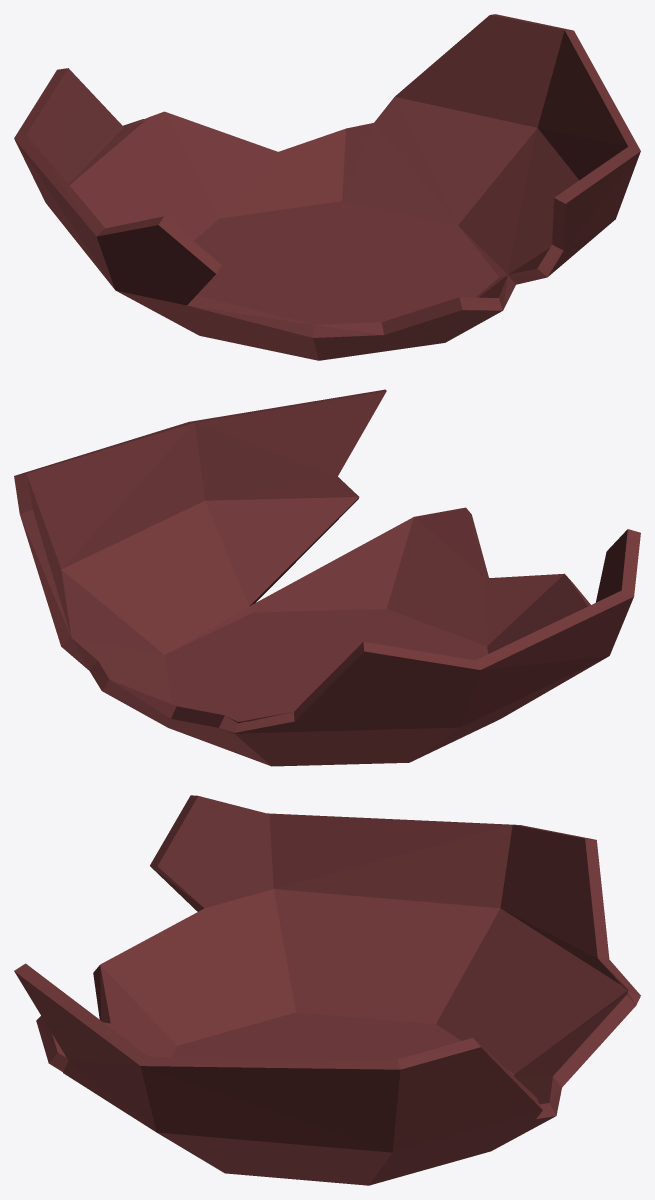
The model's file is Bowl_Destroyed Asia.fbx.
The picture shows the model from 3 angles, top to bottom: view 1: azimuth 30°, elevation 25°; view 2: azimuth 150°, elevation 25°; view 3: azimuth 270°, elevation 25°; orthographic projection. The views are drawn at different scales.
Parts seen in each view (by area): view 1: Bowl_Destroyed; view 2: Bowl_Destroyed; view 3: Bowl_Destroyed.
Part boxes in pixels (x1,y1,x2,y2): Bowl_Destroyed: [14, 14, 640, 360]; Bowl_Destroyed: [14, 389, 640, 766]; Bowl_Destroyed: [14, 795, 640, 1185].
Size of the model in its own units: 0.2405 by 0.0731 by 0.2203.
